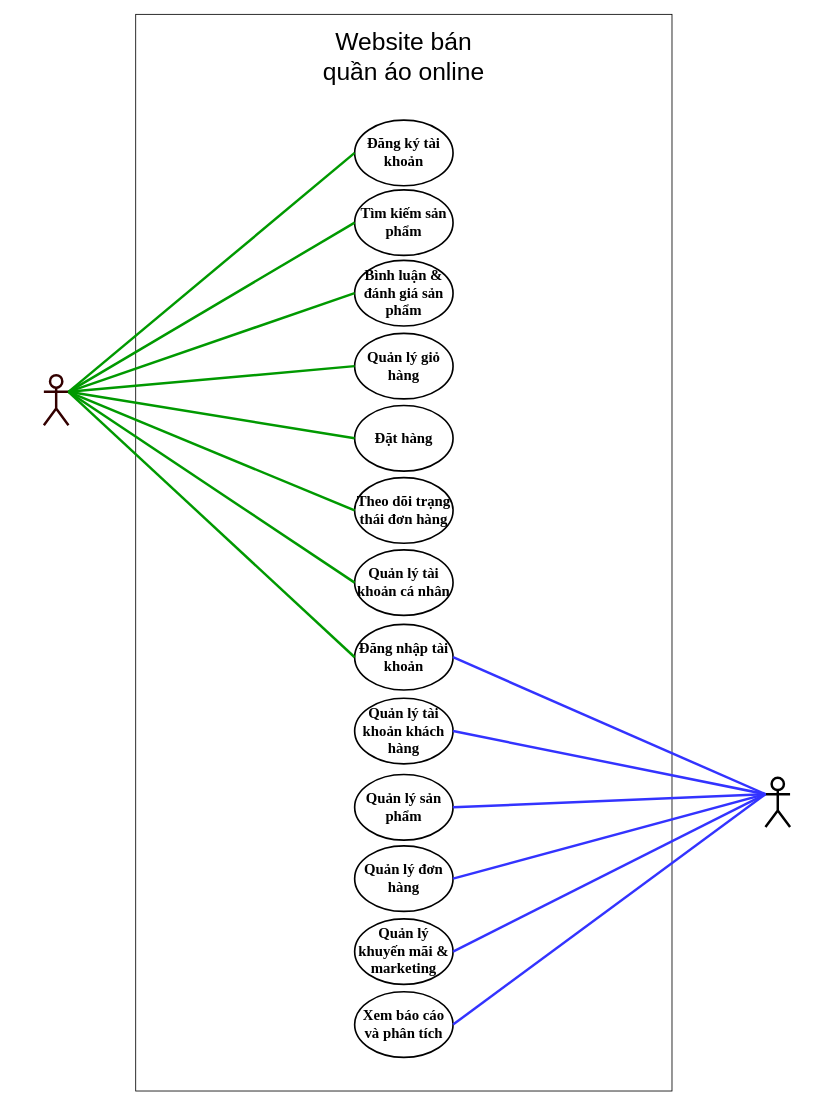
Some shapes in this 837 by 1105 pixel diagram are drawn without their labels. The centre of each missing label's shape, as x and y in pixels:
"Khách hàng" belongs at [55,400].
"Quản trị viên" belongs at [777,802].
